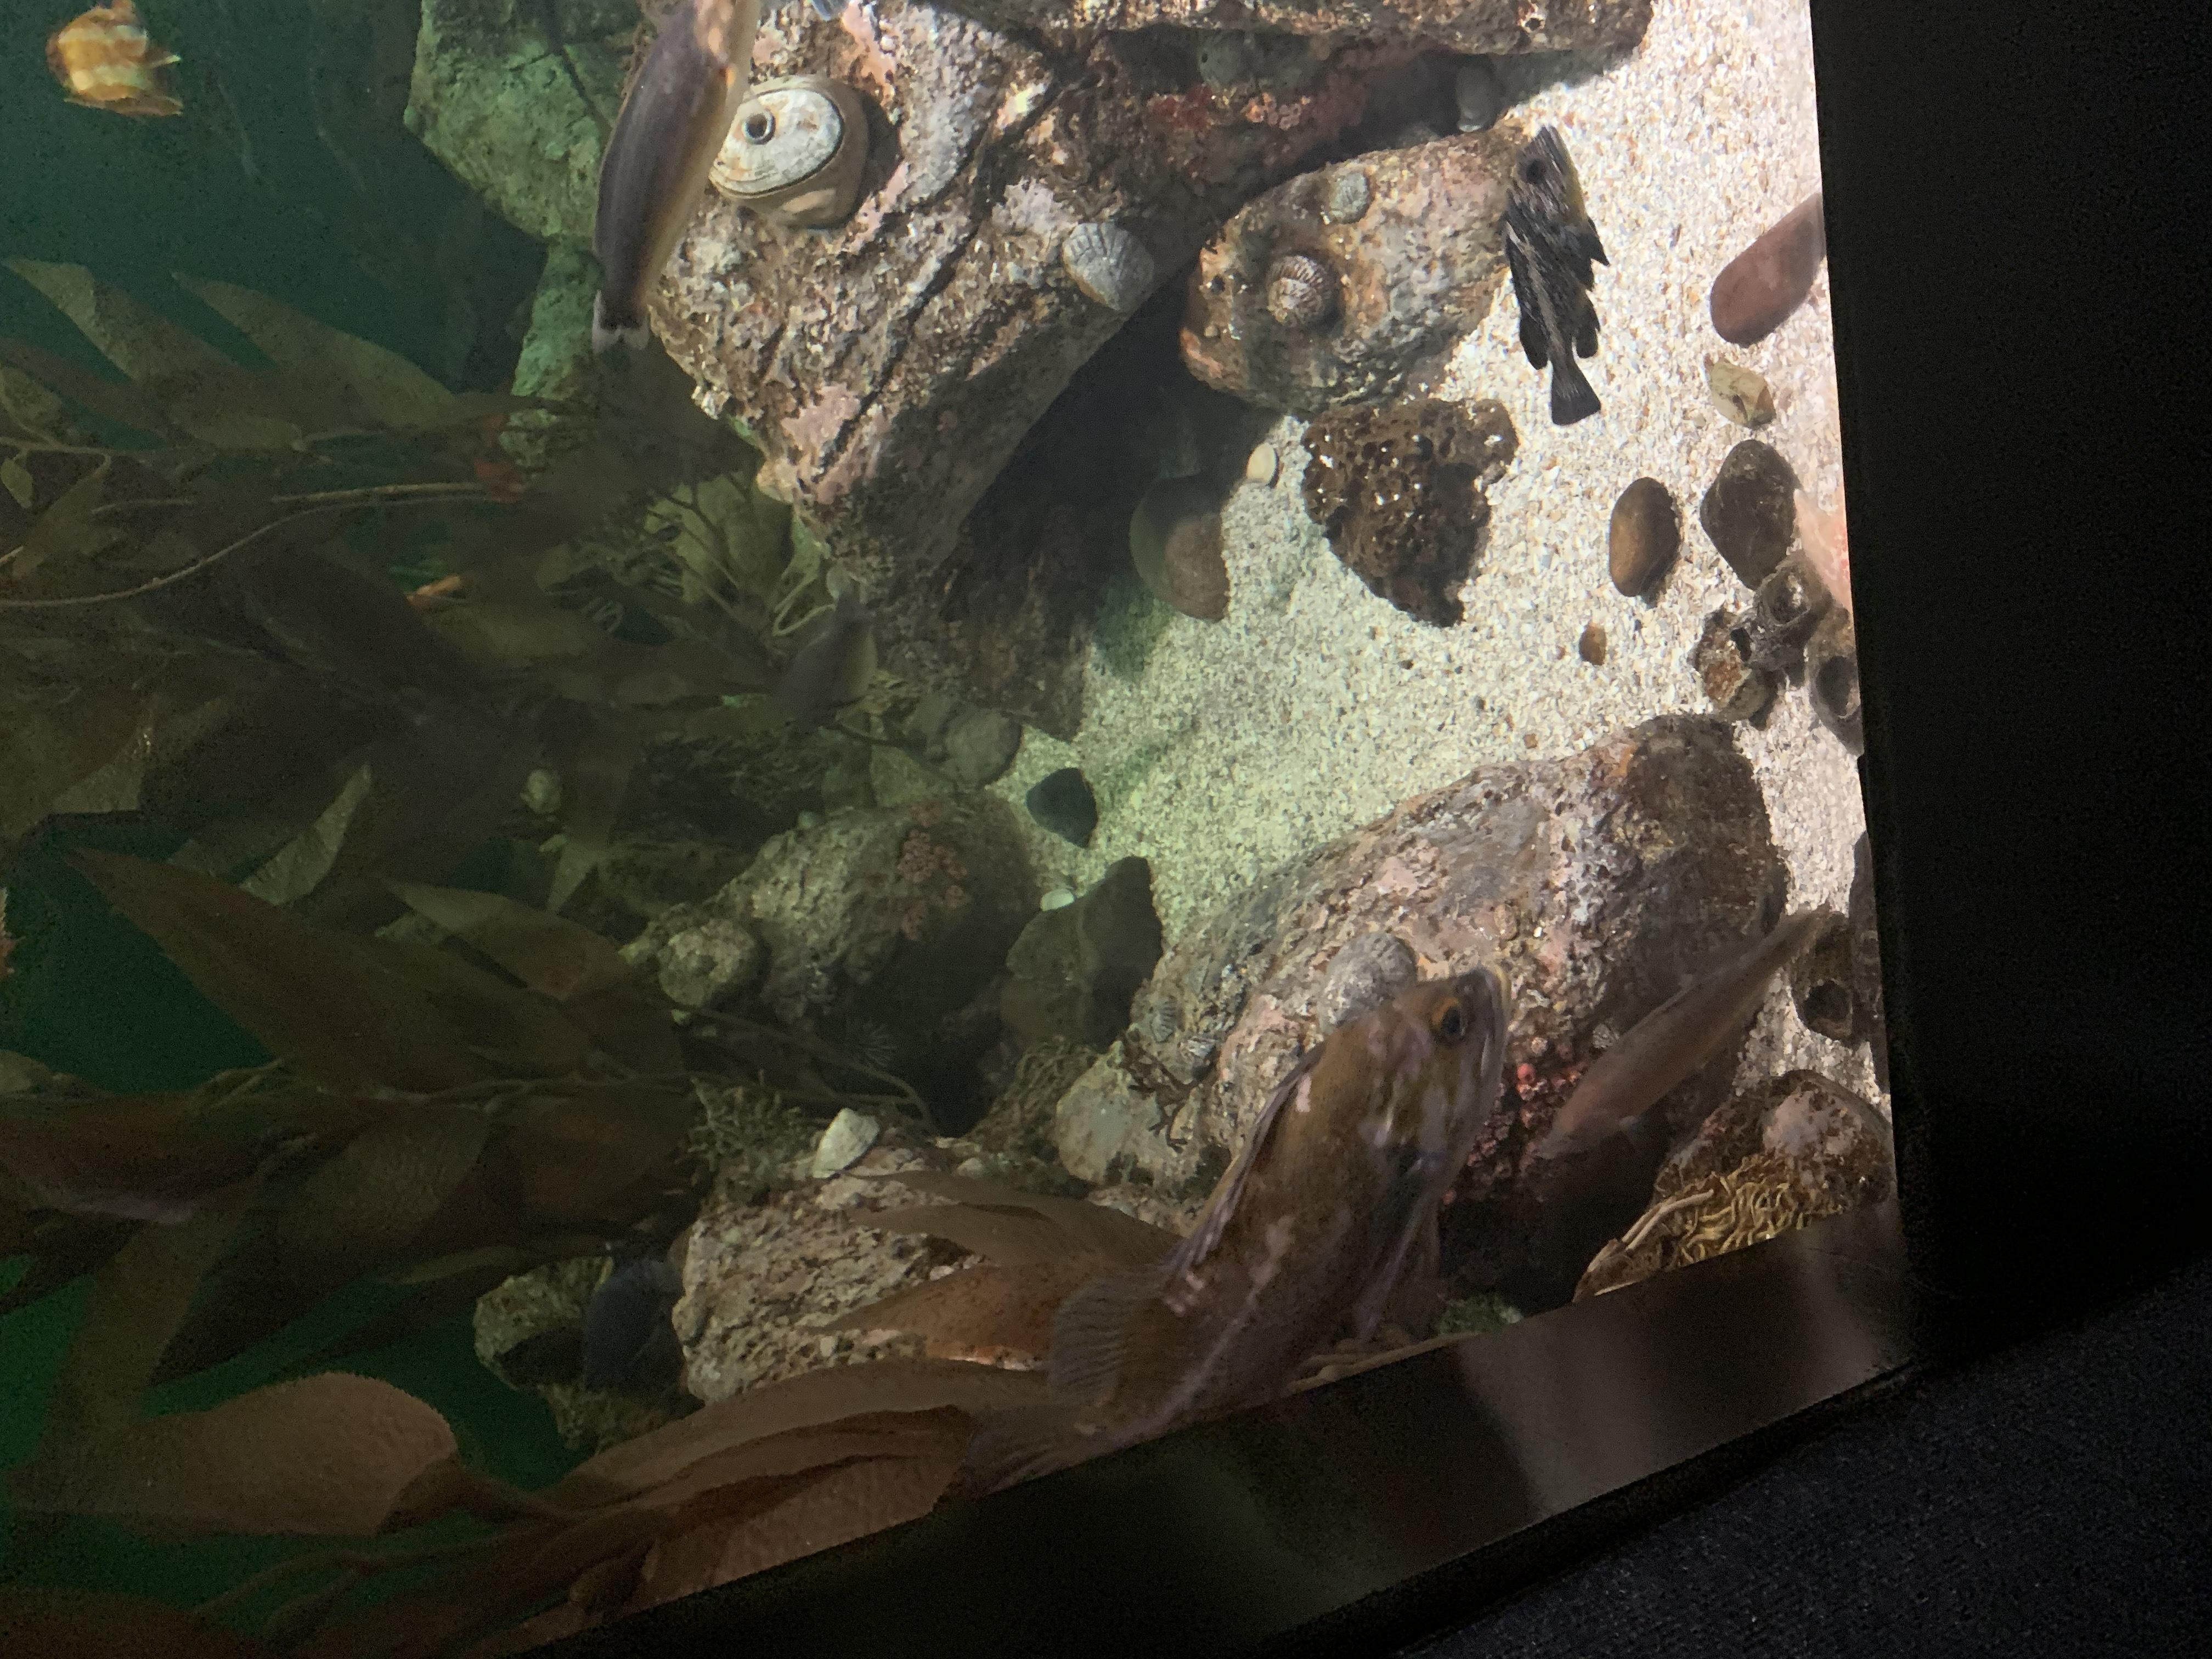fish: (975, 953, 1519, 1514), (575, 2, 779, 364), (1487, 117, 1627, 430), (47, 0, 186, 125)
